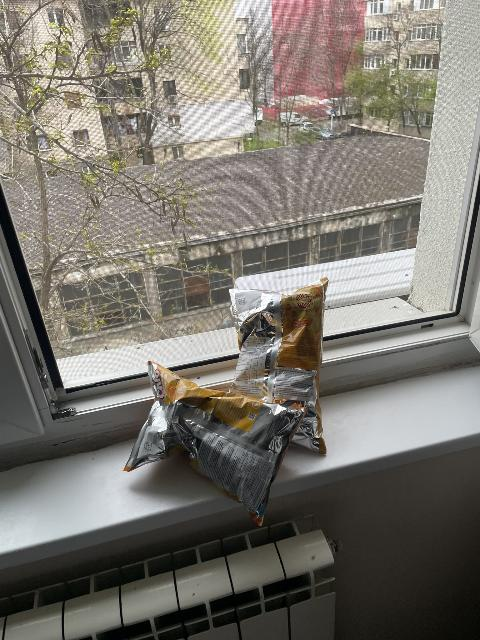Chio Cascaval 125g: (127, 285, 321, 520)
Chio Hula Hoops Cheese 70g: (230, 280, 326, 458)
